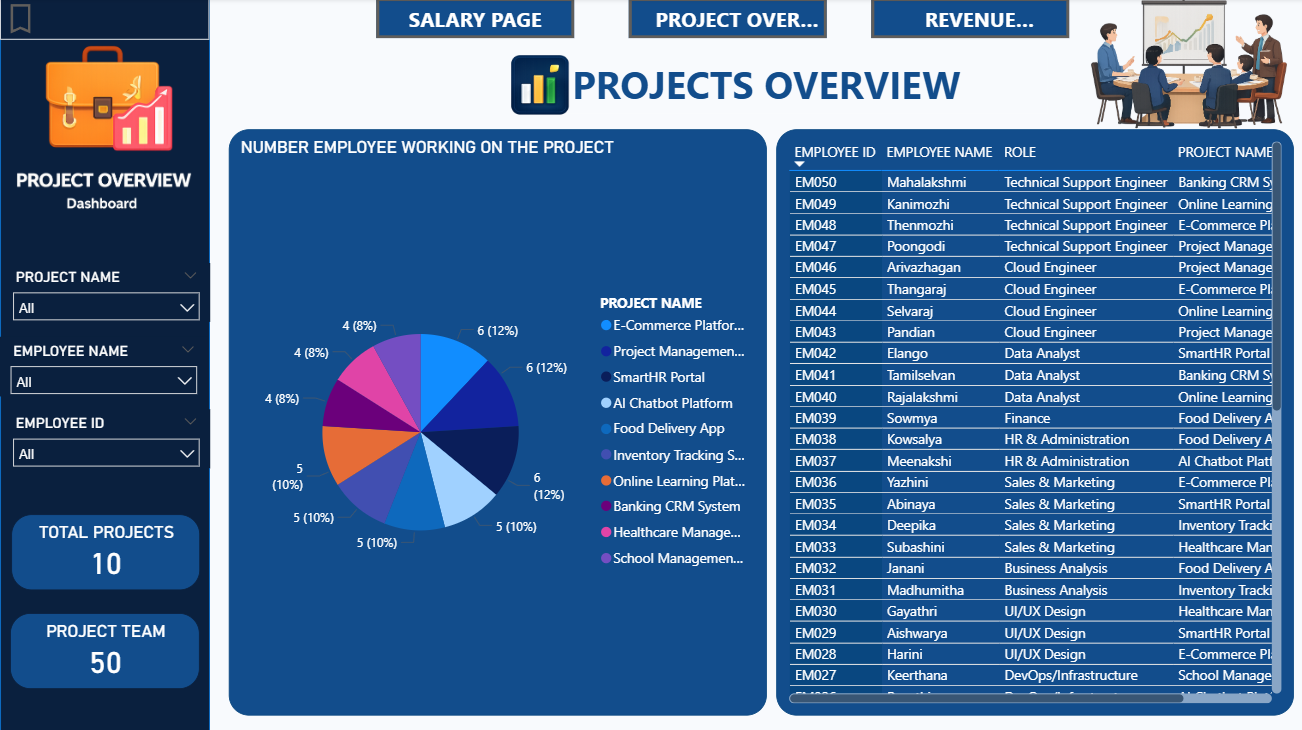

The dashboard page shown, as its layout file describes it:
{"tool":"powerbi","page":{"name":"Page 2","canvas":[1280,720],"ordinal":1},"visuals":[{"type":"pieChart","title":"NUMBER EMPLOYEE WORKING ON THE PROJECT","fields":{"Category":["Sheet2.PROJECT NAME"],"Y":["CountNonNull(Sheet2.EMPLOYEE NAME)"]},"box":[44,78.3,530.7,281.3],"z":0},{"type":"tableEx","fields":{"Values":["Sheet2.EMPLOYEE ID","Sheet2.EMPLOYEE NAME","Sheet2.ROLE","Sheet2.PROJECT NAME"]},"box":[44,392.5,530.7,281.3],"z":1000},{"type":"columnChart","title":"SUM OF REVENUE FOR THE PROJECTS ","fields":{"Category":["Sheet3.PROJECTS"],"Y":["Sum(Sheet3.REVENUE)"],"Series":["Sheet3.PROJECTS"]},"box":[679.2,78.2,531,281.3],"z":2000},{"type":"slicer","fields":{"Values":["Sheet3.PROJECTS"]},"box":[679.2,392.5,531,281.3],"z":3000},{"type":"textbox","box":[0,0,1280.3,48],"z":4000}]}

Visuals, with their boxes on the page's 1280x720 design canvas (x1, y1, x2, y2). These are canvas units, not pixel positions in the 1302x730 screenshot, which may show the page scaled, cropped or inside an application window:
"NUMBER EMPLOYEE WORKING ON THE PROJECT" pieChart: Rect(44, 78, 575, 360)
tableEx - Sheet2.EMPLOYEE ID x Sheet2.EMPLOYEE NAME: Rect(44, 392, 575, 674)
"SUM OF REVENUE FOR THE PROJECTS " columnChart: Rect(679, 78, 1210, 360)
slicer - Sheet3.PROJECTS: Rect(679, 392, 1210, 674)
textbox: Rect(0, 0, 1280, 48)
